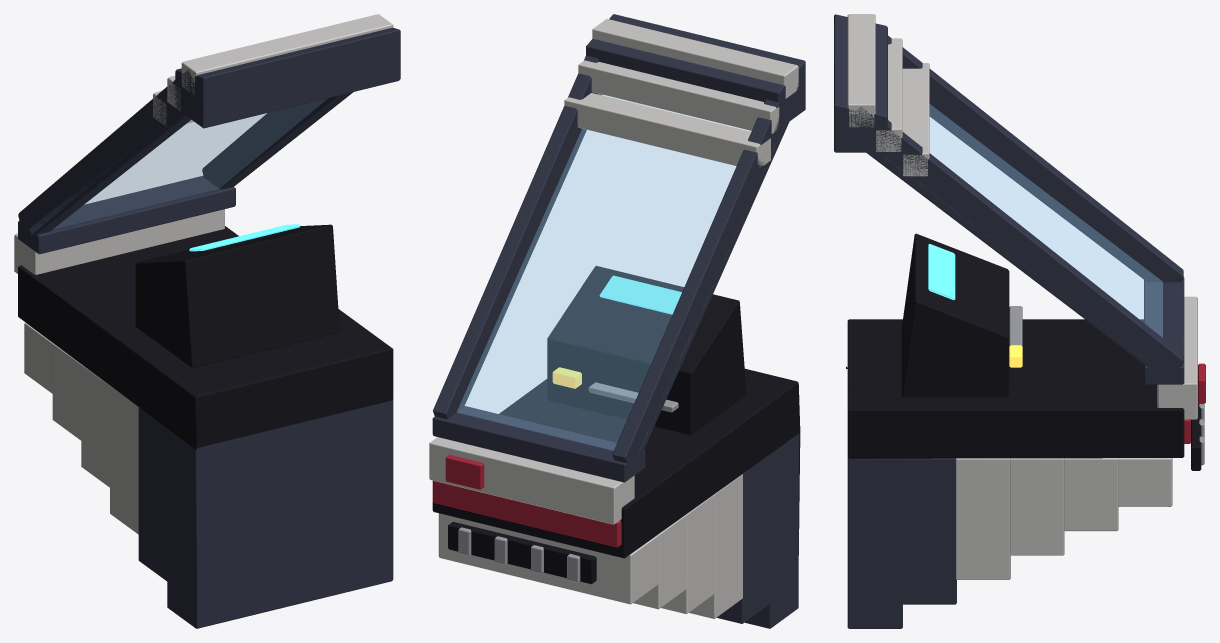
Rendered from canopy.straight.w1.deck.glb.
3 views of the same model, side by side, from view 1: azimuth 30°, elevation 25°; view 2: azimuth 150°, elevation 25°; view 3: azimuth 270°, elevation 25° (orthographic). The views are drawn at different scales.
Parts seen in each view (by area): view 1: canopy.straight.w1.deck; view 2: canopy.straight.w1.deck; view 3: canopy.straight.w1.deck.
Part boxes in pixels (left/top/right/bottom): canopy.straight.w1.deck: left=14, top=14, right=400, bottom=628; canopy.straight.w1.deck: left=429, top=14, right=805, bottom=628; canopy.straight.w1.deck: left=834, top=14, right=1205, bottom=628.
Size of the model in its own units: 1 by 2.69 by 1.73.
